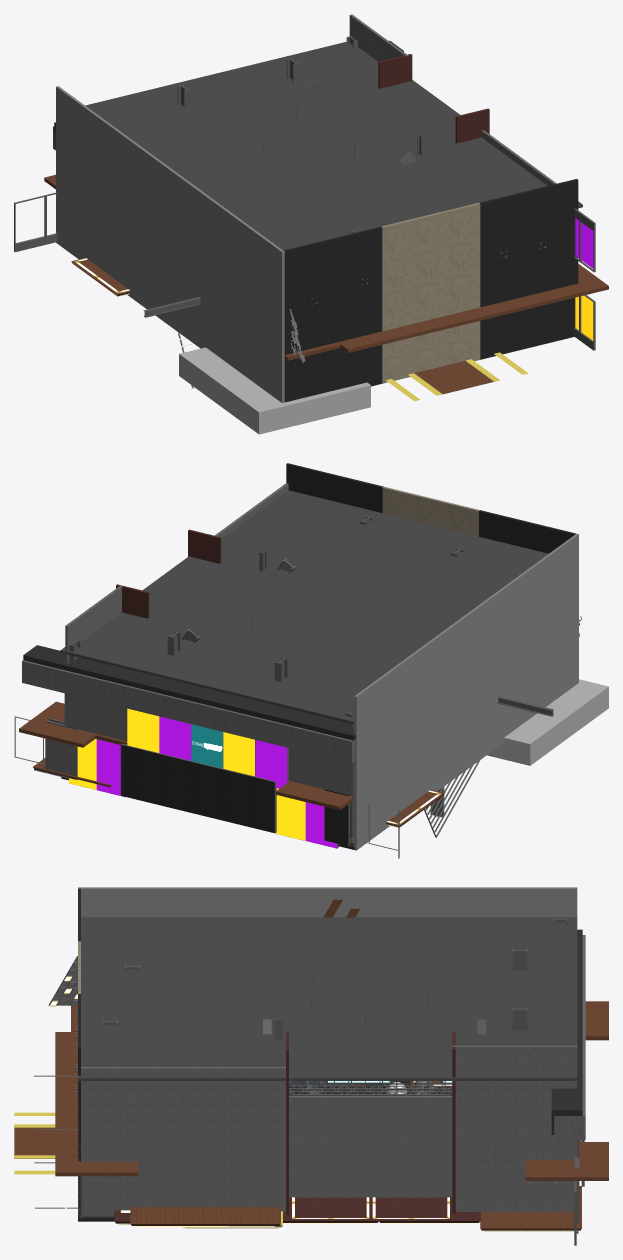
Rendered from studio_v1.gltf.
The picture shows the model from 3 angles, top to bottom: view 1: azimuth 30°, elevation 25°; view 2: azimuth 150°, elevation 25°; view 3: azimuth 270°, elevation 25°; orthographic projection. The views are drawn at different scales.
Visible parts, largest first — view 1: Mod_Floor_30x60_StaticMeshComponent0, Mod_Floor_30x82_StaticMeshComponent0, Mod_Floor_30x77_StaticMeshComponent0, Mod_Floor_30x81_StaticMeshComponent0, Mod_Floor_30x86_StaticMeshComponent0, Mod_Floor_30x87_StaticMeshComponent0, Mod_Floor_30x79_StaticMeshComponent0, Mod_Floor_30x78_StaticMeshComponent0, Mod_Floor_30x80_StaticMeshComponent0, Mod_Floor_30x85_StaticMeshComponent0, Mod_Floor_30x50_StaticMeshComponent0, Mod_Floor_30x35_StaticMeshComponent0 (+43 smaller); view 2: Mod_Wall_10ft27_6_StaticMeshComponent0, Mod_Floor_30x60_StaticMeshComponent0, Mod_Floor_30x8_StaticMeshComponent0, Mod_Floor_30x44_StaticMeshComponent0, Mod_Floor_30x35_StaticMeshComponent0, Mod_Floor_30x21_85_StaticMeshComponent0, Mod_Floor_30x33_StaticMeshComponent0, Mod_Floor_30x36_StaticMeshComponent0, Mod_Floor_30x32_StaticMeshComponent0, Mod_Floor_30x20_84_StaticMeshComponent0, Mod_Floor_30x45_StaticMeshComponent0, Mod_Floor_30x50_StaticMeshComponent0 (+64 smaller); view 3: Mod_Floor_30x38_StaticMeshComponent0, Mod_Floor_30x39_StaticMeshComponent0, Mod_Floor_30x73_StaticMeshComponent0, Mod_Floor_30x72_StaticMeshComponent0, Mod_Floor_30x74_StaticMeshComponent0, Mod_Floor_30x75_StaticMeshComponent0, Mod_Floor_30x76_StaticMeshComponent0, Mod_Floor_30x37_StaticMeshComponent0, Mod_Floor_30x42_StaticMeshComponent0, Mod_Floor_30x40_StaticMeshComponent0, Mod_Floor_30x41_StaticMeshComponent0, Mod_Floor_30x71_StaticMeshComponent0 (+53 smaller).
Boxes of the visible parts, x1,y1,x2,y2 form: Mod_Floor_30x60_StaticMeshComponent0: [179, 347, 370, 434]; Mod_Floor_30x82_StaticMeshComponent0: [283, 242, 317, 402]; Mod_Floor_30x77_StaticMeshComponent0: [447, 202, 480, 364]; Mod_Floor_30x81_StaticMeshComponent0: [316, 234, 349, 394]; Mod_Floor_30x86_StaticMeshComponent0: [512, 187, 545, 351]; Mod_Floor_30x87_StaticMeshComponent0: [479, 195, 512, 359]; Mod_Floor_30x79_StaticMeshComponent0: [381, 218, 414, 383]; Mod_Floor_30x78_StaticMeshComponent0: [414, 210, 447, 372]; Mod_Floor_30x80_StaticMeshComponent0: [348, 226, 382, 386]; Mod_Floor_30x85_StaticMeshComponent0: [544, 179, 578, 343]; Mod_Floor_30x50_StaticMeshComponent0: [263, 237, 284, 402]; Mod_Floor_30x35_StaticMeshComponent0: [131, 141, 151, 309]; Mod_Wall_10ft27_6_StaticMeshComponent0: [120, 743, 276, 833]; Mod_Floor_30x60_StaticMeshComponent0: [487, 679, 608, 765]; Mod_Floor_30x8_StaticMeshComponent0: [354, 683, 374, 850]; Mod_Floor_30x44_StaticMeshComponent0: [466, 601, 486, 768]; Mod_Floor_30x35_StaticMeshComponent0: [428, 628, 449, 790]; Mod_Floor_30x21_85_StaticMeshComponent0: [60, 638, 225, 688]; Mod_Floor_30x33_StaticMeshComponent0: [391, 656, 412, 816]; Mod_Floor_30x36_StaticMeshComponent0: [447, 615, 467, 782]; Mod_Floor_30x32_StaticMeshComponent0: [373, 669, 393, 836]; Mod_Floor_30x20_84_StaticMeshComponent0: [207, 672, 353, 724]; Mod_Floor_30x45_StaticMeshComponent0: [484, 588, 504, 755]; Mod_Floor_30x50_StaticMeshComponent0: [558, 533, 578, 695]; Mod_Floor_30x38_StaticMeshComponent0: [494, 1045, 535, 1211]; Mod_Floor_30x39_StaticMeshComponent0: [452, 1045, 493, 1211]; Mod_Floor_30x73_StaticMeshComponent0: [202, 1067, 244, 1207]; Mod_Floor_30x72_StaticMeshComponent0: [244, 1067, 285, 1211]; Mod_Floor_30x74_StaticMeshComponent0: [161, 1067, 202, 1207]; Mod_Floor_30x75_StaticMeshComponent0: [119, 1067, 160, 1210]; Mod_Floor_30x76_StaticMeshComponent0: [78, 1067, 119, 1216]; Mod_Floor_30x37_StaticMeshComponent0: [535, 1045, 577, 1211]; Mod_Floor_30x42_StaticMeshComponent0: [327, 1096, 369, 1197]; Mod_Floor_30x40_StaticMeshComponent0: [411, 1096, 452, 1197]; Mod_Floor_30x41_StaticMeshComponent0: [369, 1096, 410, 1197]; Mod_Floor_30x71_StaticMeshComponent0: [289, 1096, 327, 1197].
Size of the model in its own units: 24.76 by 14.15 by 28.59.
